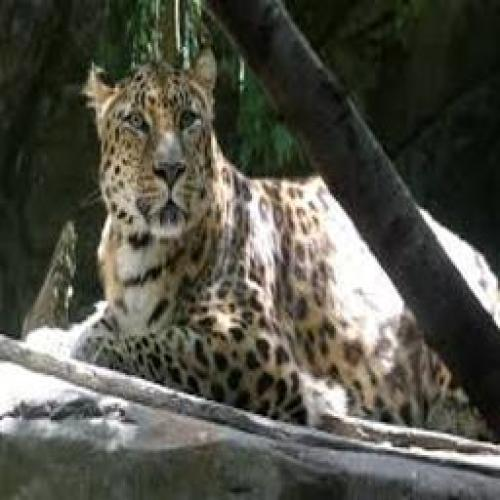amur_leopard-endangered: (87, 50, 500, 437)
